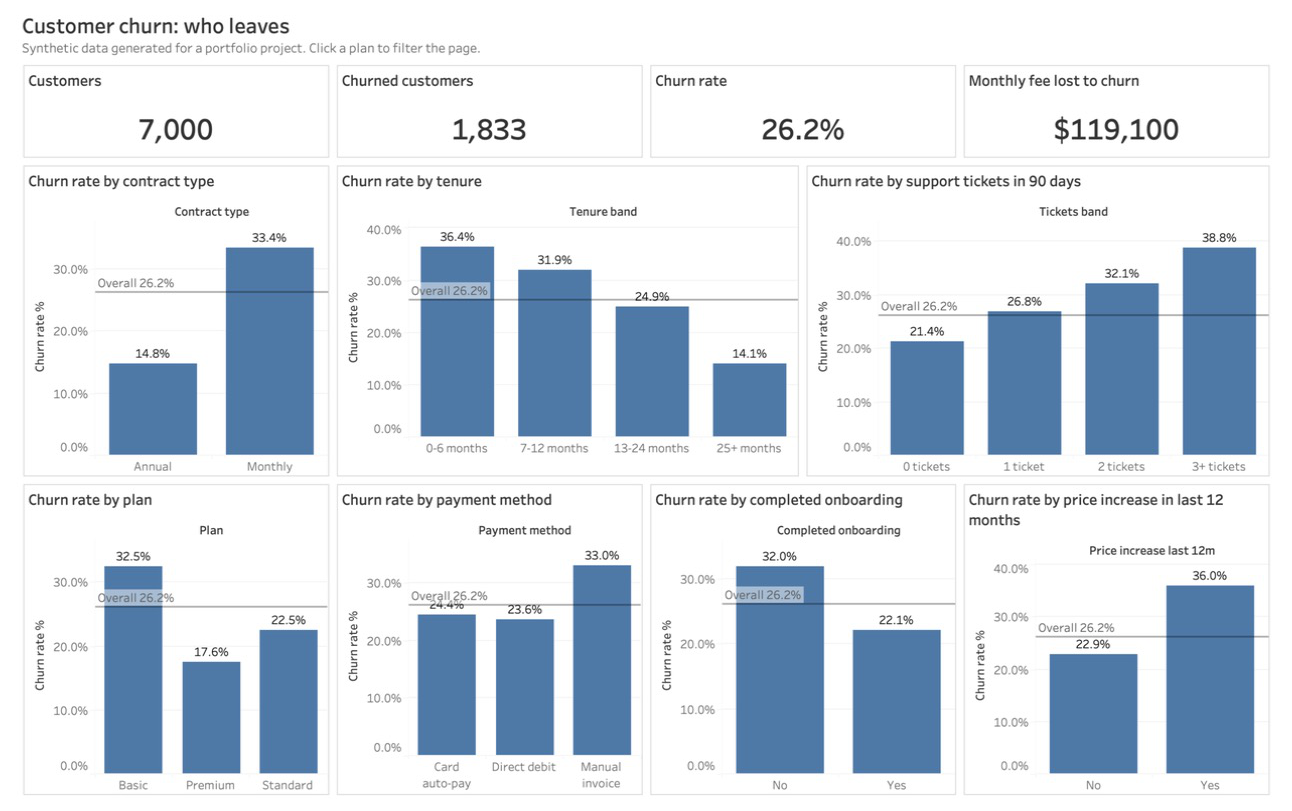

The page's visual inventory and layout, read from the dashboard file:
{"tool":"tableau","page":{"name":"Who churns","canvas":[1300,820],"ordinal":0},"visuals":[{"type":"title","box":[0,0,1300,56]},{"type":"worksheet","title":"Customer count","mark":"Text","box":[0,56,325,104]},{"type":"worksheet","title":"Churned customers","mark":"Text","box":[325,56,325,104]},{"type":"worksheet","title":"Churn rate","mark":"Text","box":[650,56,325,104]},{"type":"worksheet","title":"Monthly fee lost","mark":"Text","box":[975,56,325,104]},{"type":"worksheet","title":"Churn by contract type","mark":"Bar","rows":["c_rate"],"cols":["contract_type"],"box":[0,160,325,330]},{"type":"worksheet","title":"Churn by tenure","mark":"Bar","rows":["c_rate"],"cols":["tenure_band"],"box":[325,160,487,330]},{"type":"worksheet","title":"Churn by support tickets","mark":"Bar","rows":["c_rate"],"cols":["tickets_band"],"box":[812,160,488,330]},{"type":"worksheet","title":"Churn by plan","mark":"Bar","rows":["c_rate"],"cols":["plan"],"box":[0,490,325,330]},{"type":"worksheet","title":"Churn by payment method","mark":"Bar","rows":["c_rate"],"cols":["payment_method"],"box":[325,490,325,330]},{"type":"worksheet","title":"Churn by onboarding","mark":"Bar","rows":["c_rate"],"cols":["completed_onboarding"],"box":[650,490,325,330]},{"type":"worksheet","title":"Churn by price increase","mark":"Bar","rows":["c_rate"],"cols":["price_increase_last_12m"],"box":[975,490,325,330]}]}

Visuals, with their boxes in screenshot pixels (x1, y1, x2, y2), scaled from the page's 1300x820 canvas onto the 1292x811 screenshot:
title: {"x1": 0, "y1": 0, "x2": 1291, "y2": 55}
"Customer count" worksheet (Text marks): {"x1": 0, "y1": 55, "x2": 323, "y2": 158}
"Churned customers" worksheet (Text marks): {"x1": 323, "y1": 55, "x2": 646, "y2": 158}
"Churn rate" worksheet (Text marks): {"x1": 646, "y1": 55, "x2": 969, "y2": 158}
"Monthly fee lost" worksheet (Text marks): {"x1": 969, "y1": 55, "x2": 1291, "y2": 158}
"Churn by contract type" worksheet (Bar marks): {"x1": 0, "y1": 158, "x2": 323, "y2": 485}
"Churn by tenure" worksheet (Bar marks): {"x1": 323, "y1": 158, "x2": 807, "y2": 485}
"Churn by support tickets" worksheet (Bar marks): {"x1": 807, "y1": 158, "x2": 1291, "y2": 485}
"Churn by plan" worksheet (Bar marks): {"x1": 0, "y1": 485, "x2": 323, "y2": 810}
"Churn by payment method" worksheet (Bar marks): {"x1": 323, "y1": 485, "x2": 646, "y2": 810}
"Churn by onboarding" worksheet (Bar marks): {"x1": 646, "y1": 485, "x2": 969, "y2": 810}
"Churn by price increase" worksheet (Bar marks): {"x1": 969, "y1": 485, "x2": 1291, "y2": 810}
